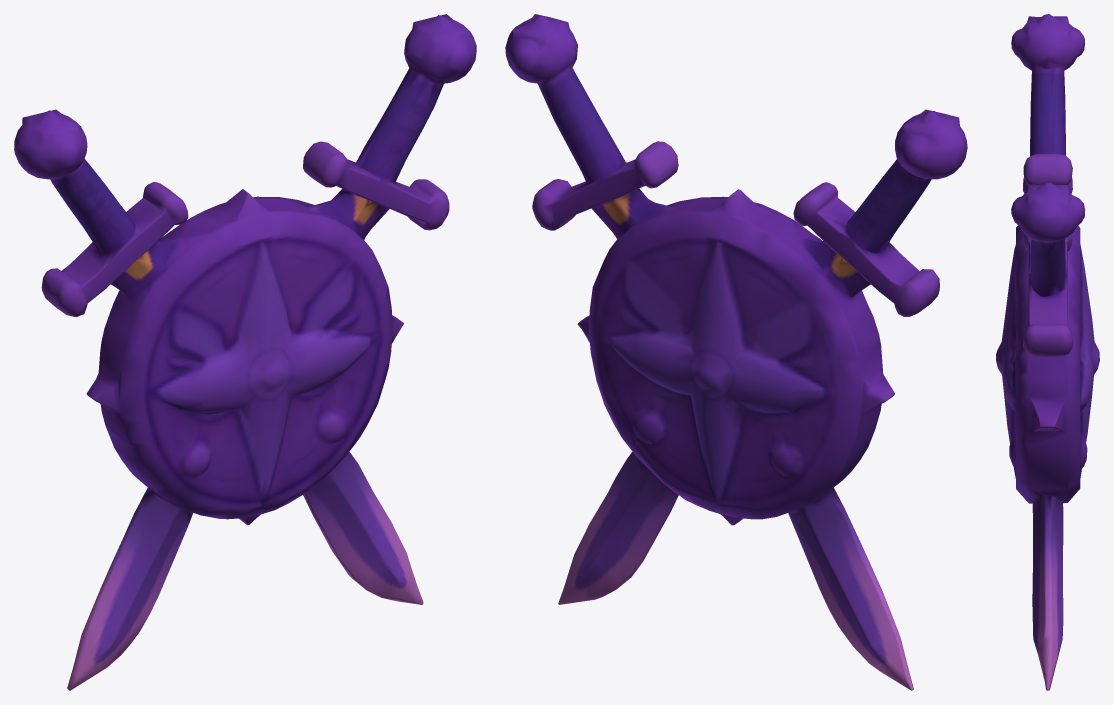
The picture shows the model from 3 angles, left to right: view 1: azimuth 30°, elevation 25°; view 2: azimuth 150°, elevation 25°; view 3: azimuth 270°, elevation 25°; orthographic projection. The views are drawn at different scales.
Parts seen in each view (by area): view 1: assassin; view 2: assassin; view 3: assassin.
Part boxes in pixels (x1,y1,x2,y2): assassin: [14, 14, 476, 690]; assassin: [505, 14, 967, 690]; assassin: [996, 14, 1099, 690].
Bounding box in the file's own units: 0.457 × 0.56 × 0.1022.
1 material, 1 textured.
